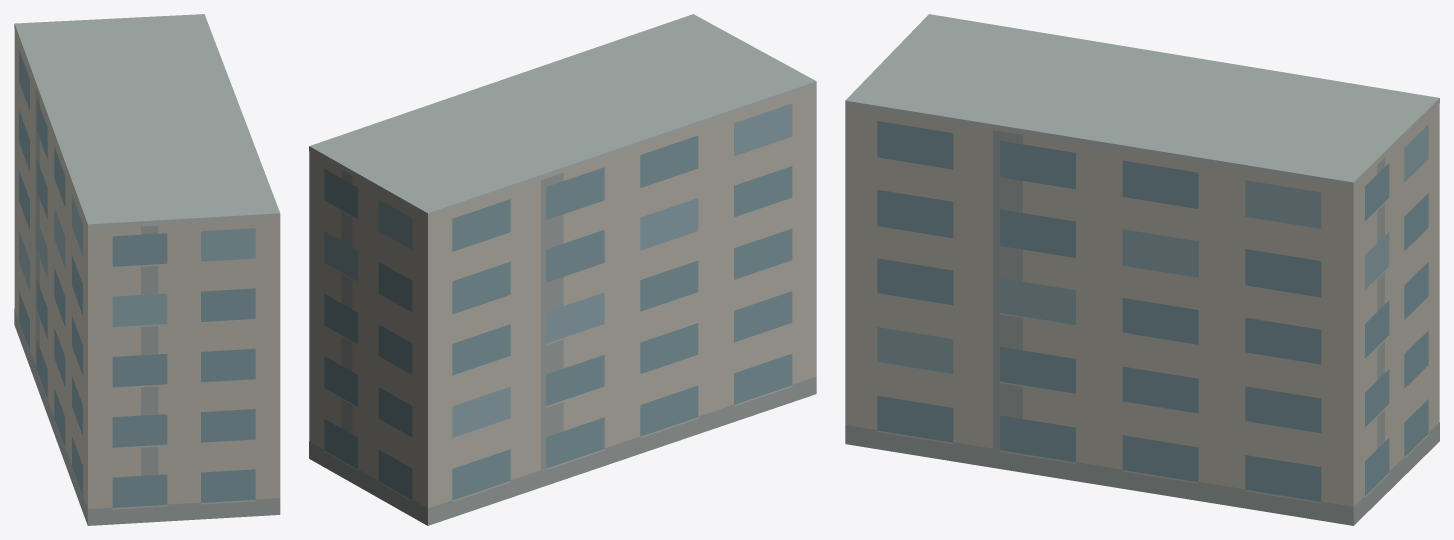
The model's file is survey-upis-32805436.glb.
The picture shows the model from 3 angles, left to right: view 1: azimuth 30°, elevation 25°; view 2: azimuth 150°, elevation 25°; view 3: azimuth 270°, elevation 25°; orthographic projection. The views are drawn at different scales.
Visible parts, largest first — view 1: survey-upis-32805436.tmp; view 2: survey-upis-32805436.tmp; view 3: survey-upis-32805436.tmp.
Boxes of the visible parts, x1=… form: survey-upis-32805436.tmp: x1=14, y1=14, x2=280, y2=525; survey-upis-32805436.tmp: x1=309, y1=14, x2=816, y2=525; survey-upis-32805436.tmp: x1=845, y1=14, x2=1439, y2=525.
Size of the model in its own units: 14.95 by 14.2 by 22.29.
